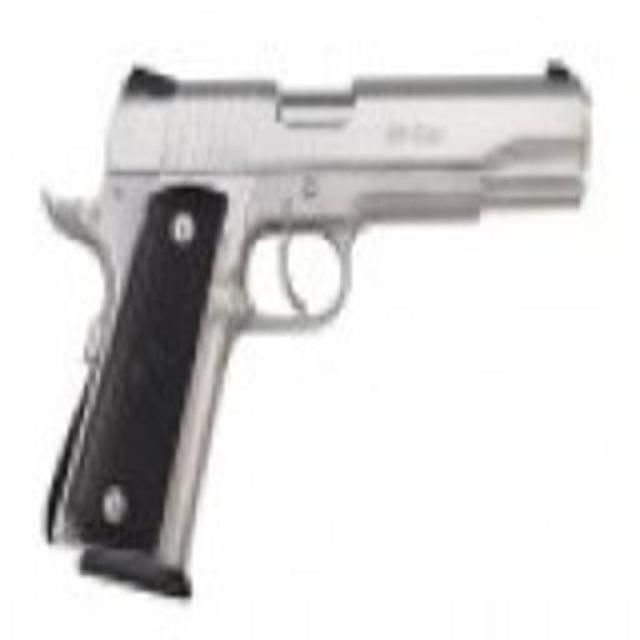pistol: (40, 64, 591, 586)
